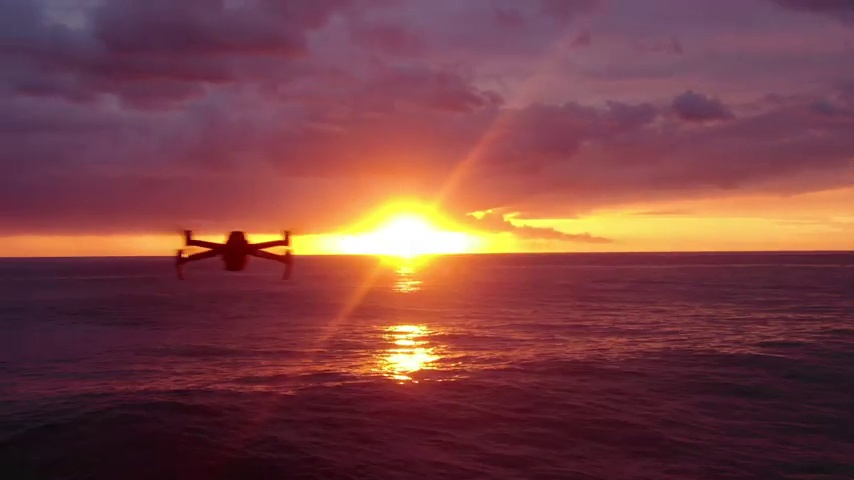drone: (171, 229, 293, 285)
